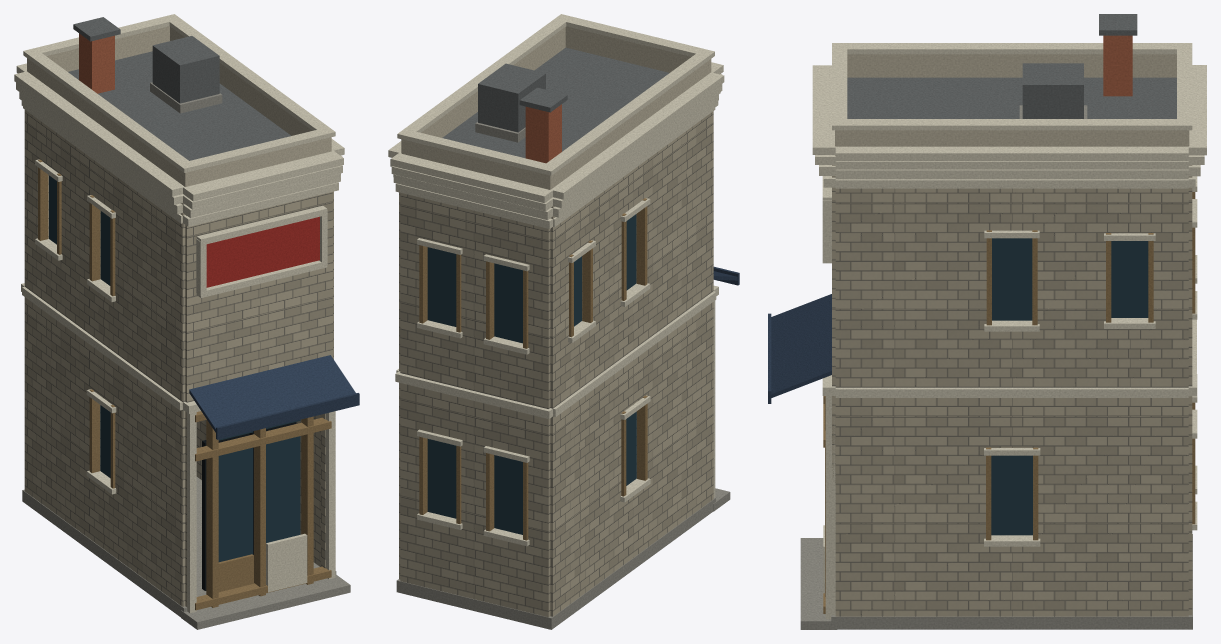
The model's file is BUSS2_lod2.glb.
3 views of the same model, side by side, from view 1: azimuth 30°, elevation 25°; view 2: azimuth 150°, elevation 25°; view 3: azimuth 270°, elevation 25° (orthographic). The views are drawn at different scales.
Parts seen in each view (by area): view 1: BUSS2_LOD2; view 2: BUSS2_LOD2; view 3: BUSS2_LOD2.
Boxes of the visible parts, left/top/right/bottom form: BUSS2_LOD2: left=14, top=14, right=359, bottom=629; BUSS2_LOD2: left=388, top=14, right=739, bottom=629; BUSS2_LOD2: left=768, top=14, right=1206, bottom=629.
Size of the model in its own units: 3.78 by 10.25 by 7.46.
11 materials, 9 textured.
